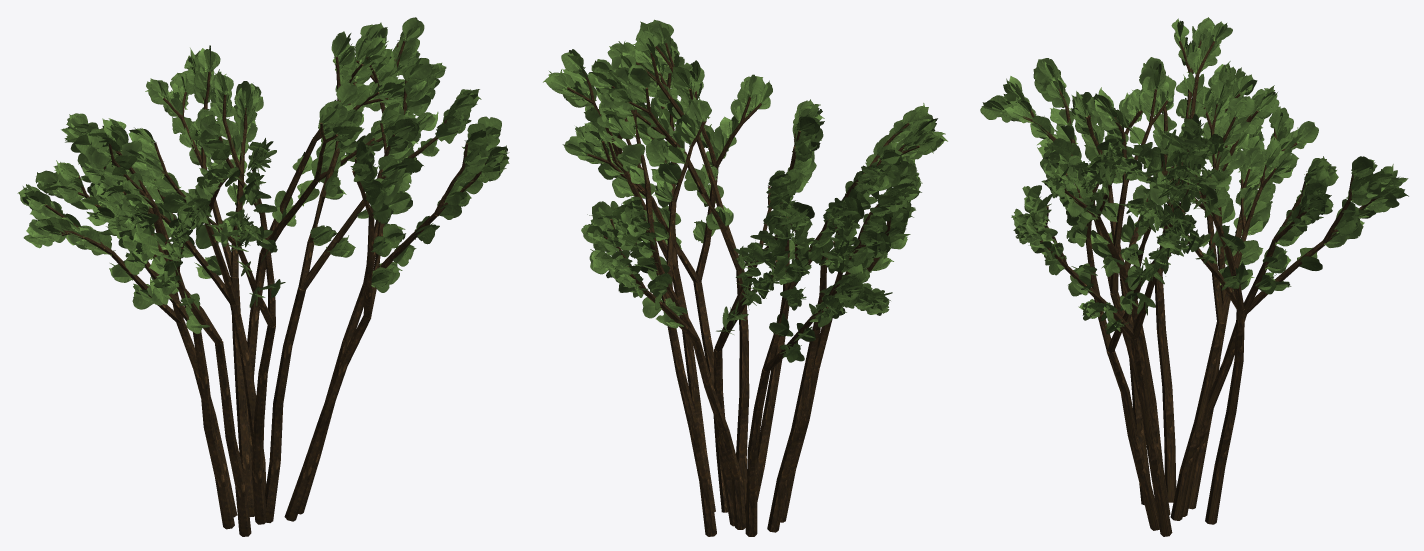
File: hazel_coppice_v01.fbx
3 renders of one model, left to right at view 1: azimuth 30°, elevation 25°; view 2: azimuth 150°, elevation 25°; view 3: azimuth 270°, elevation 25°, orthographic. The views are drawn at different scales.
Visible parts, largest first — view 1: hazel_coppice_v01; view 2: hazel_coppice_v01; view 3: hazel_coppice_v01.
Part boxes in pixels (x1=…): hazel_coppice_v01: x1=17, y1=17, x2=509, y2=536; hazel_coppice_v01: x1=543, y1=19, x2=947, y2=536; hazel_coppice_v01: x1=980, y1=17, x2=1408, y2=536.
Size of the model in its own units: 262 by 306 by 265.
2 materials, 2 textured.
